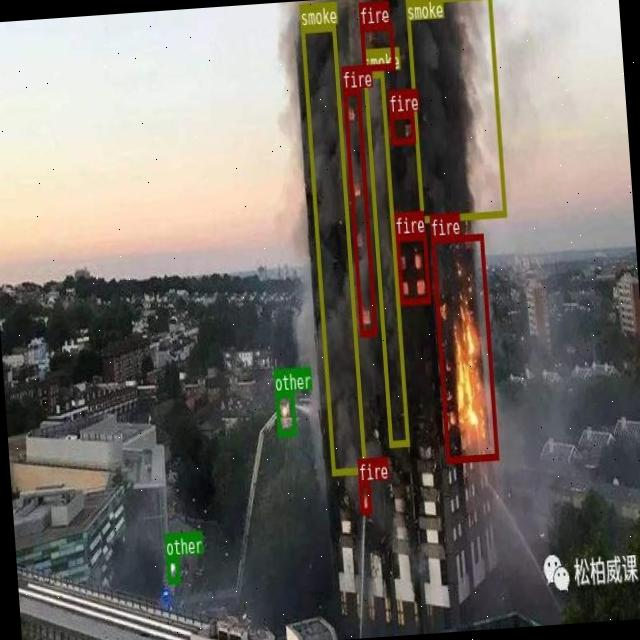fire: (430, 233, 498, 462), (342, 87, 376, 336), (394, 232, 430, 304), (360, 22, 394, 70), (388, 110, 414, 144), (358, 481, 371, 514)
smoke: (300, 23, 366, 474), (405, 0, 505, 220), (362, 70, 409, 446)
